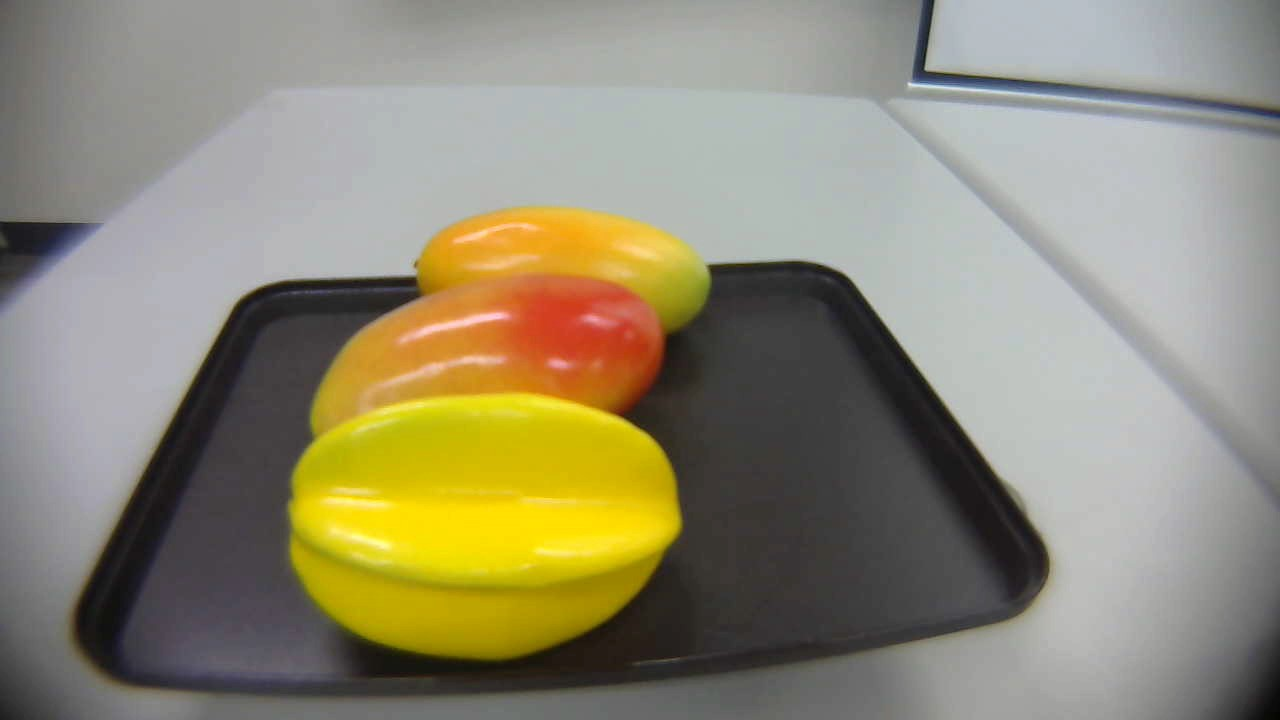red mango: (289, 266, 672, 443)
star fruit: (279, 397, 688, 650)
yellow mango: (363, 197, 748, 352)
